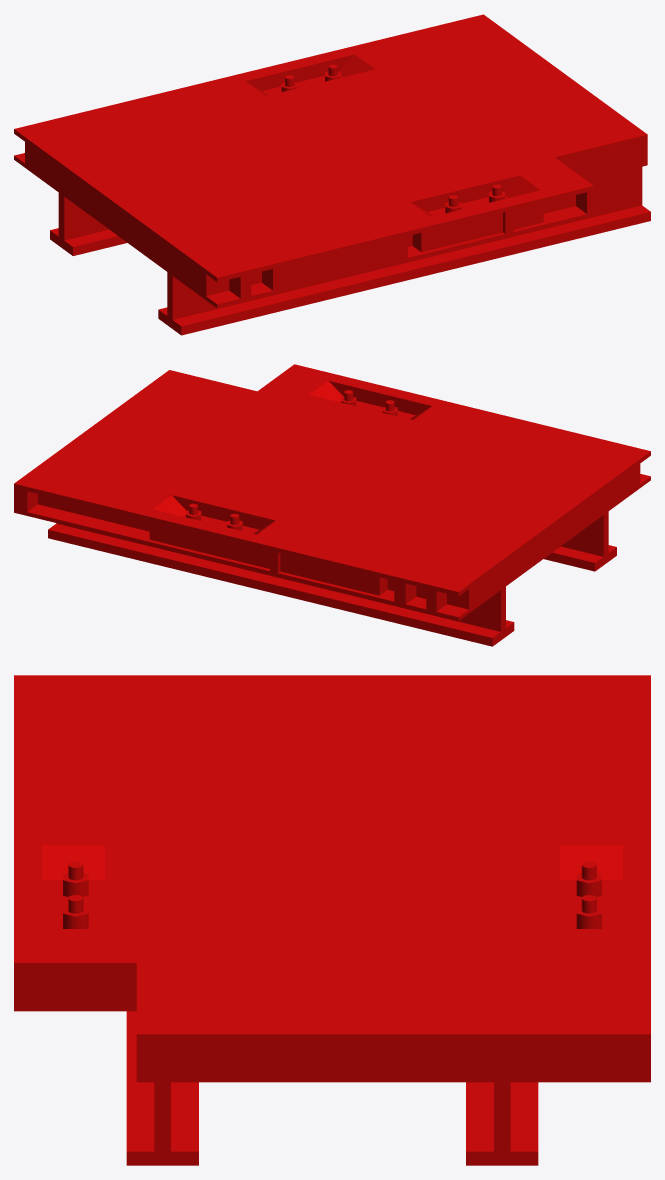
3 renders of one model, top to bottom at view 1: azimuth 30°, elevation 25°; view 2: azimuth 150°, elevation 25°; view 3: azimuth 270°, elevation 25°, orthographic. The views are drawn at different scales.
Visible parts, largest first — view 1: Mesh; view 2: Mesh; view 3: Mesh.
Part boxes in pixels (x1,y1,x2,y2): Mesh: (14,14,650,335); Mesh: (14,364,650,646); Mesh: (14,675,650,1165).
Bounding box in the file's own units: 4 × 0.7155 × 3.
